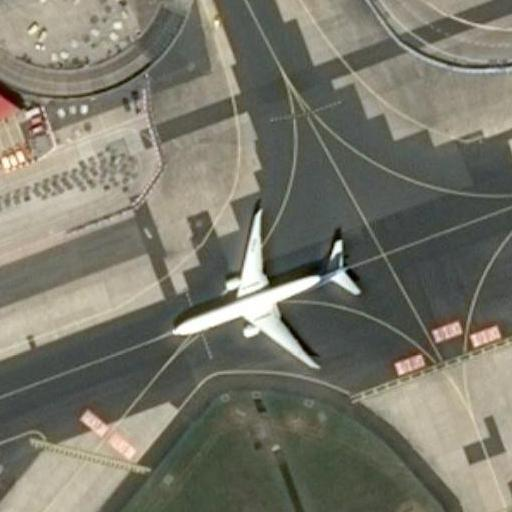Aircraft: (156, 190, 367, 376)
